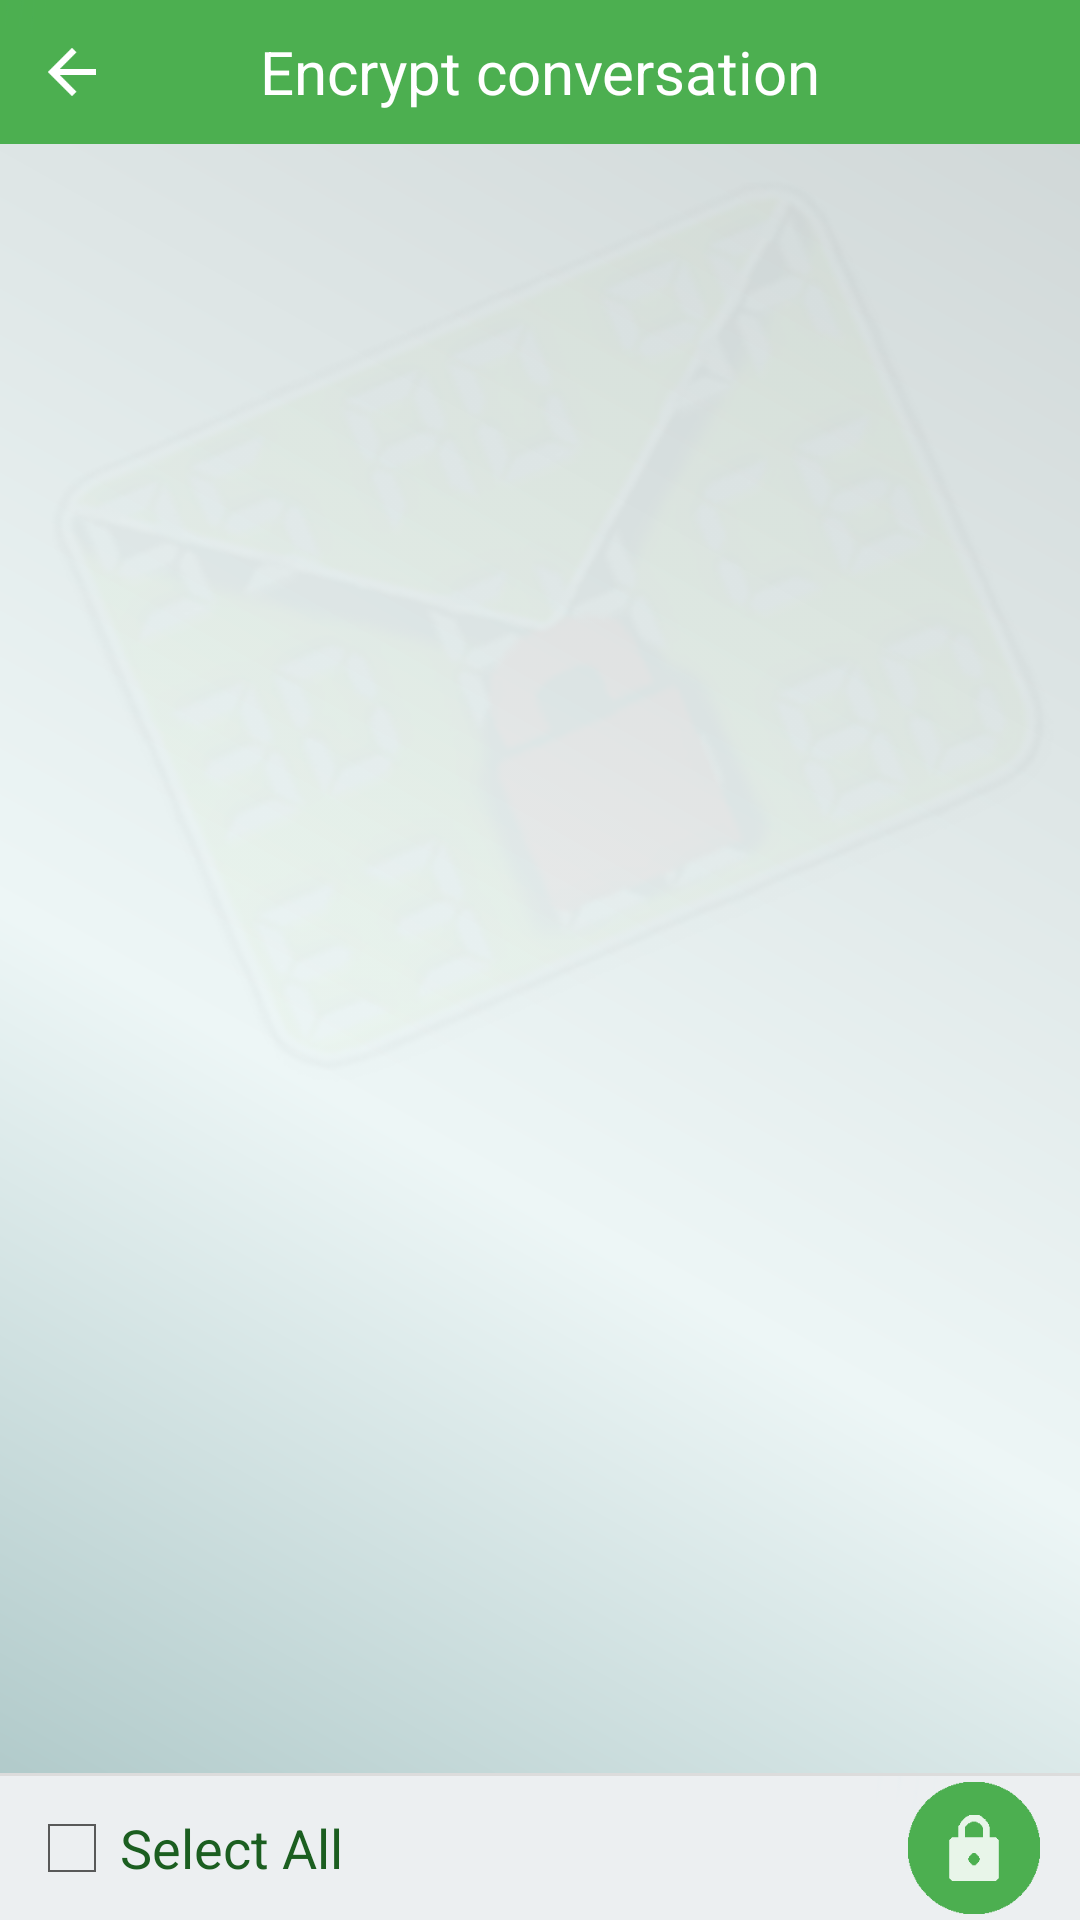

Locate icon controls on the screen. Image size 1080×1920, boxes as [left=x1, top=y1, right=x2, bottom=y2].
Back: [left=48, top=48, right=96, bottom=96]
Encrypt: [left=908, top=1782, right=1040, bottom=1914]
